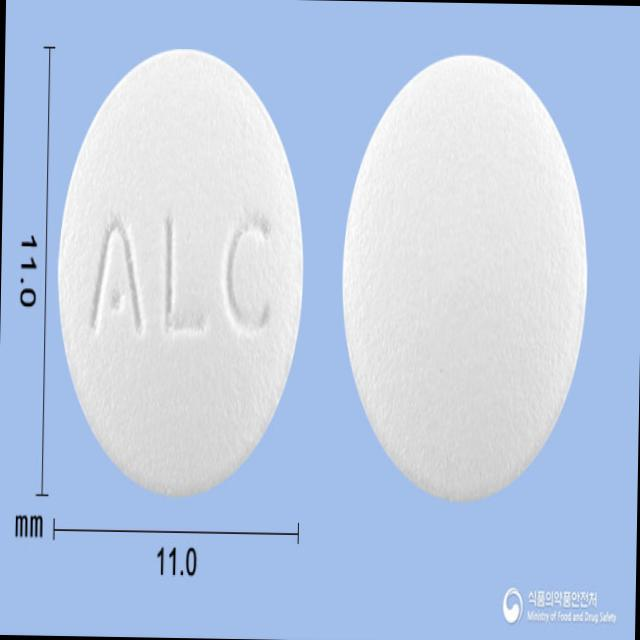Ciprofloxacin Hcl Tab- Arlico: (50, 35, 311, 506)
